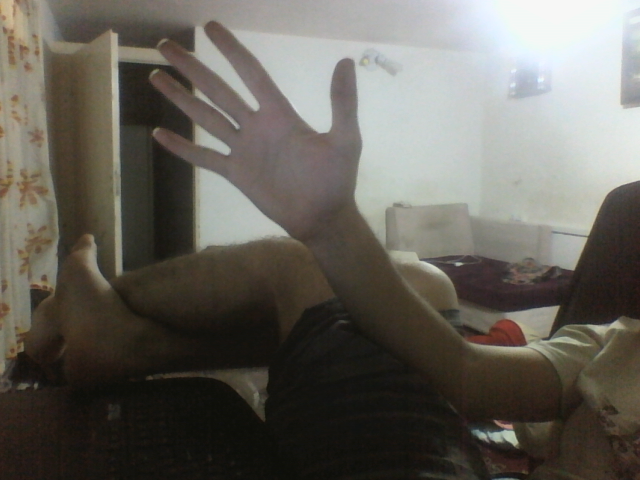taslim: (150, 16, 369, 245)
